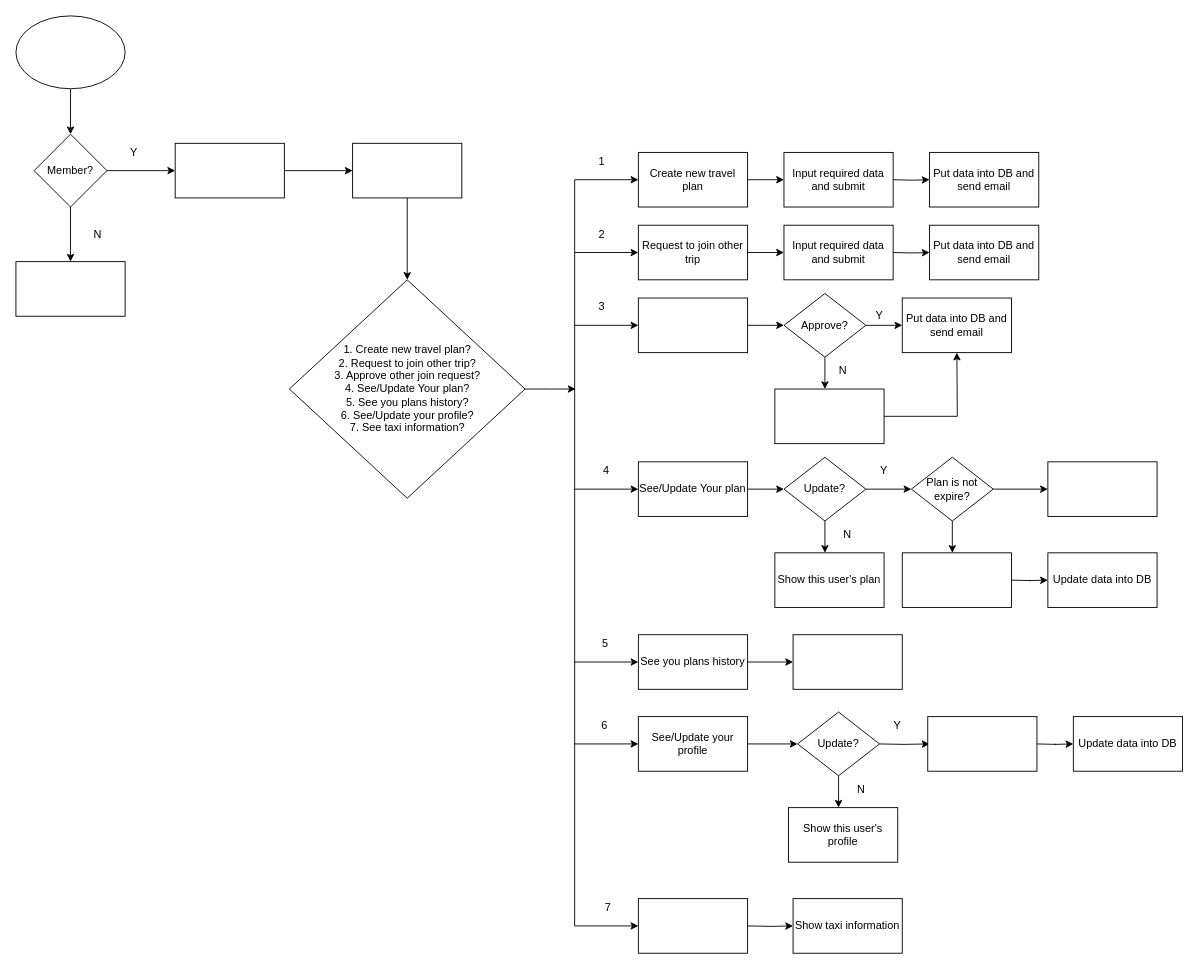
Some shapes in this 1198 by 969 pixel diagram are drawn without their labels. Each missing label, with the centre of its shape:
Approve other join request: the point at 692,325
Cannot update anything: the point at 1102,488
Input reasons for reject and send email back to requester.: the point at 829,416
See all travel plan lists: the point at 407,170
See taxi information: the point at 692,925
Show this user's plan history: the point at 847,661
Sign_In: the point at 229,170
Sign_Up: the point at 70,288
Start: the point at 70,52
Update plan's detail: the point at 956,579
Update user's profile: the point at 982,743
